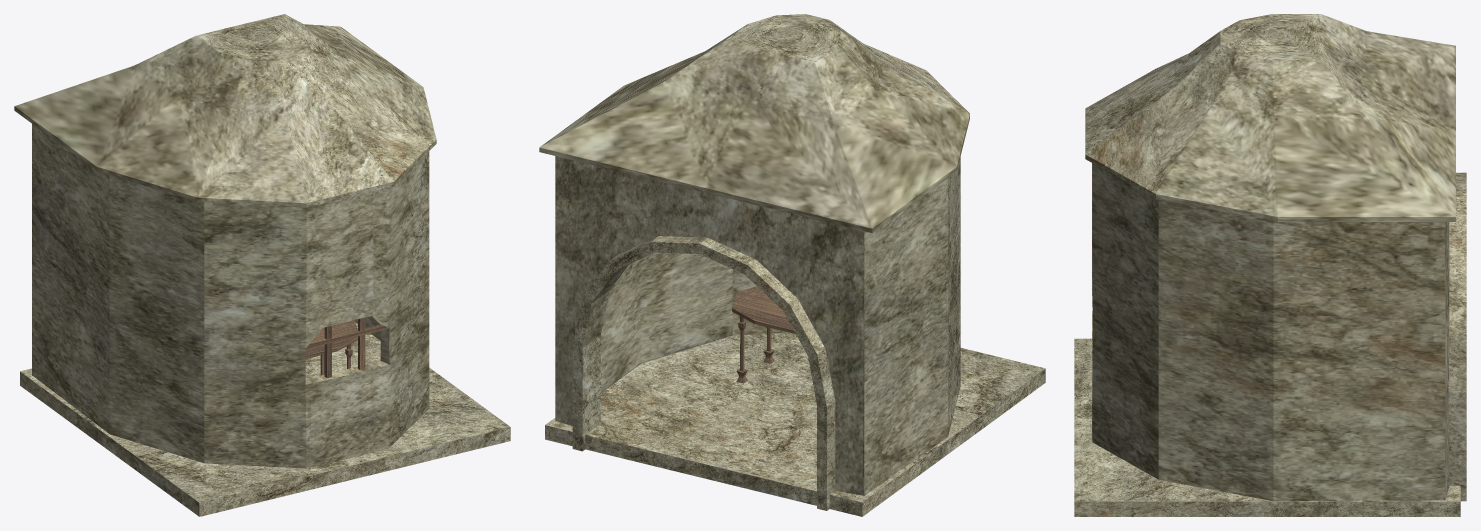
Rendered from shrine1.obj.
The picture shows the model from 3 angles, left to right: view 1: azimuth 30°, elevation 25°; view 2: azimuth 150°, elevation 25°; view 3: azimuth 270°, elevation 25°; orthographic projection. The views are drawn at different scales.
Bounding box in the file's own units: 4.33 × 4.74 × 4.19.
